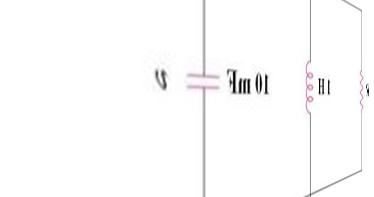inductor: (292, 46, 322, 115)
